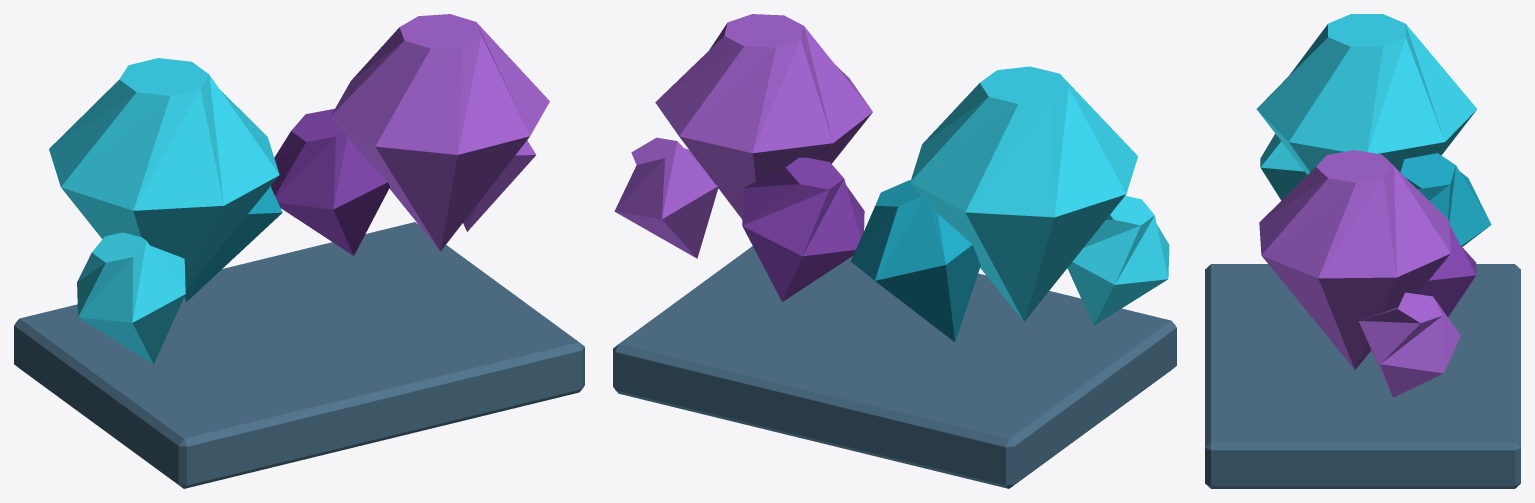
The model's file is crystal_cluster_large.glb.
The picture shows the model from 3 angles, left to right: view 1: azimuth 30°, elevation 25°; view 2: azimuth 150°, elevation 25°; view 3: azimuth 270°, elevation 25°; orthographic projection. The views are drawn at different scales.
Visible parts, largest first — view 1: crystal_cluster_large; view 2: crystal_cluster_large; view 3: crystal_cluster_large.
Part boxes in pixels (bbox=[...]): crystal_cluster_large: bbox=[14, 14, 584, 488]; crystal_cluster_large: bbox=[613, 14, 1176, 488]; crystal_cluster_large: bbox=[1205, 14, 1520, 488].
Size of the model in its own units: 2.68 by 1.73 by 1.6.
